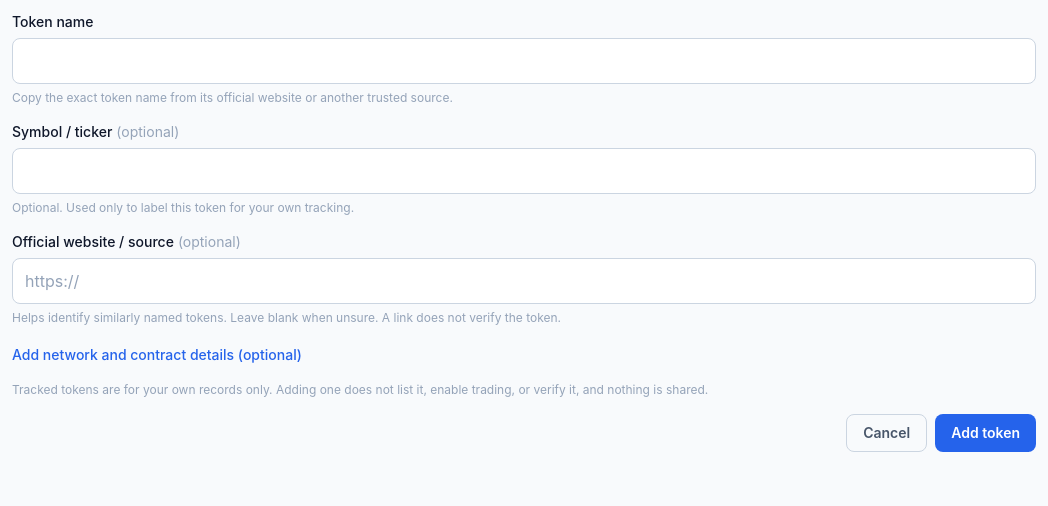
it: CustomTokenForm › shows a server error without losing input
This screenshot has width=1048, height=506.
Type "Keep me" into the field labelled "Token name" at (524, 61), box 12,38 -> 1036,84
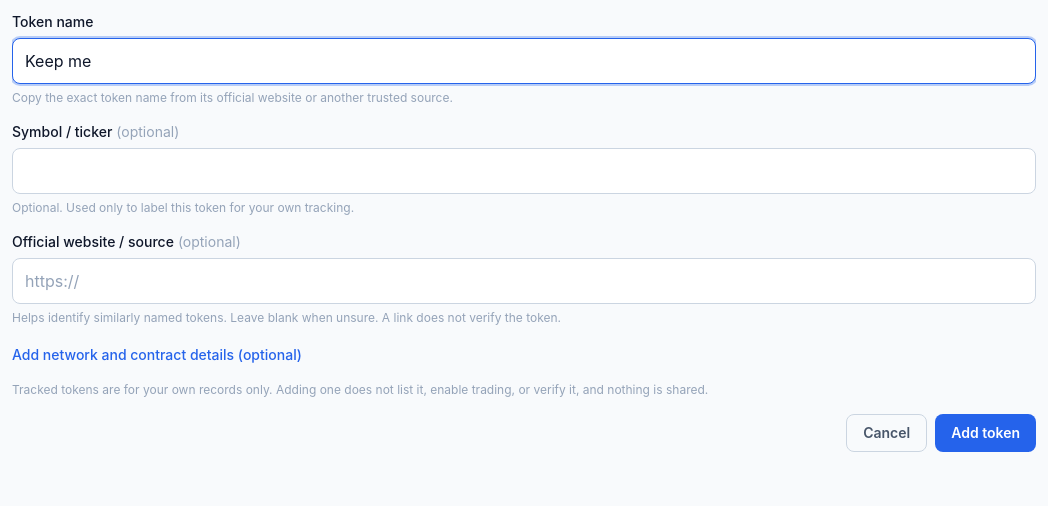
Click the button "Add token" at (986, 433), box 935,414 -> 1036,452
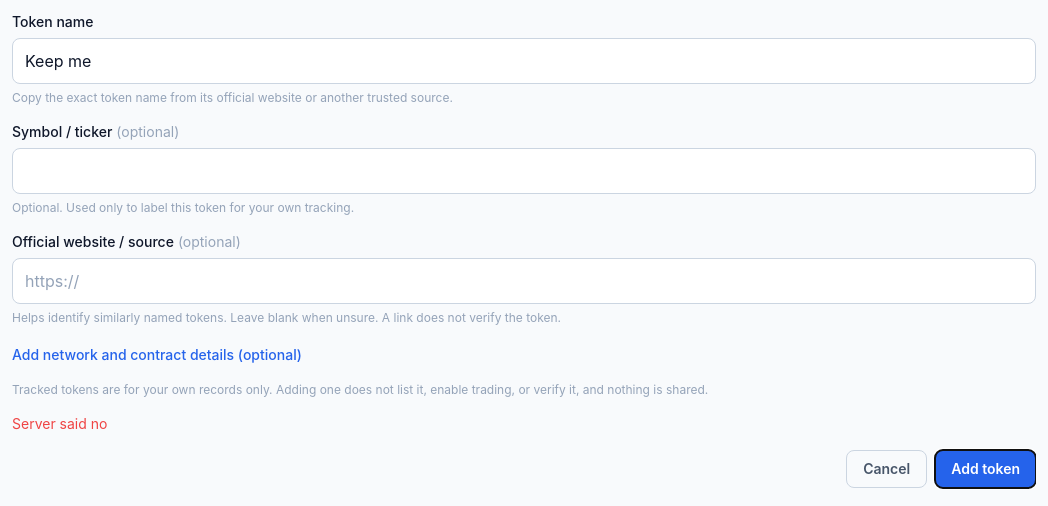
Expected: the text "Server said no" is shown, 12,415 -> 107,432
